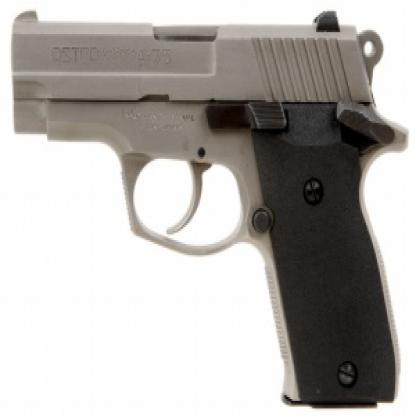Guns: (5, 0, 408, 409)
